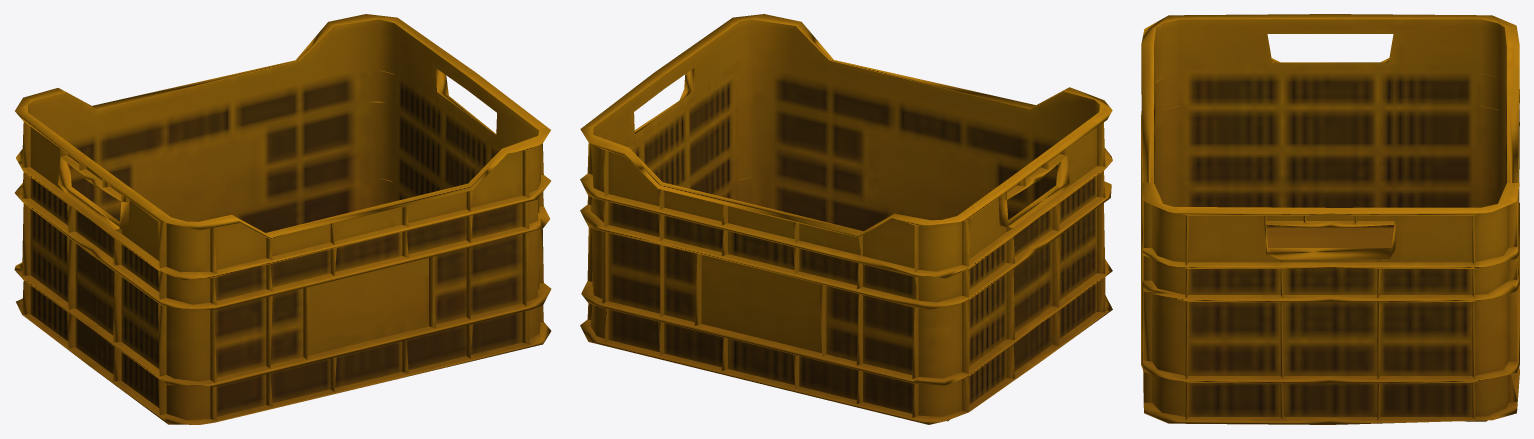
Rendered from plastic_crate_02.glb.
The picture shows the model from 3 angles, left to right: view 1: azimuth 30°, elevation 25°; view 2: azimuth 150°, elevation 25°; view 3: azimuth 270°, elevation 25°; orthographic projection. The views are drawn at different scales.
Parts seen in each view (by area): view 1: plastic_crate_02; view 2: plastic_crate_02; view 3: plastic_crate_02.
Boxes of the visible parts, box(x1,y1,x2,y2) form: plastic_crate_02: box(14, 14, 551, 424); plastic_crate_02: box(580, 14, 1112, 424); plastic_crate_02: box(1141, 14, 1519, 424).
Size of the model in its own units: 0.5055 by 0.2541 by 0.4055.
1 material, 1 textured.
